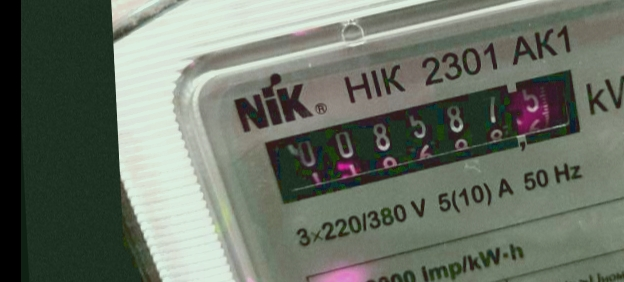0: (331, 123, 359, 158), (294, 132, 321, 166)
5: (406, 106, 431, 138), (519, 78, 543, 110)
6: (526, 113, 545, 131)
7: (481, 89, 504, 124)
8: (443, 98, 468, 132), (370, 117, 395, 150)
screen: (254, 64, 607, 204)
